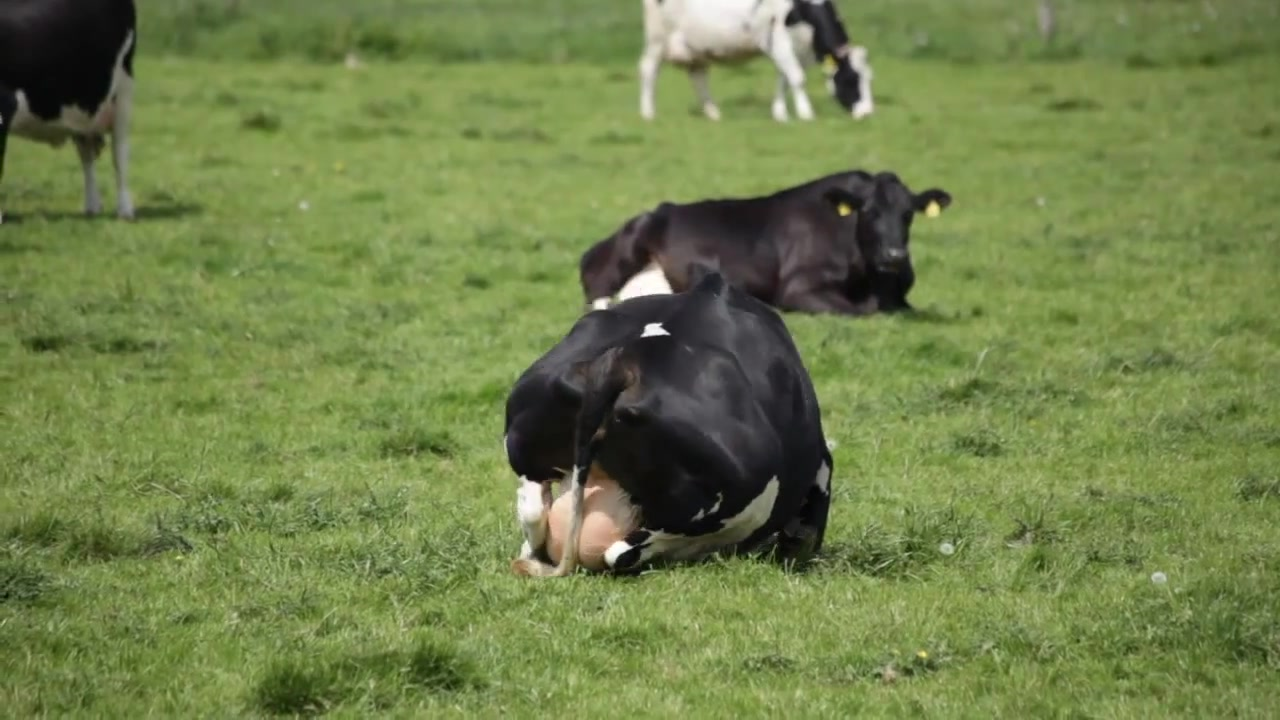cow: (500, 267, 838, 582)
